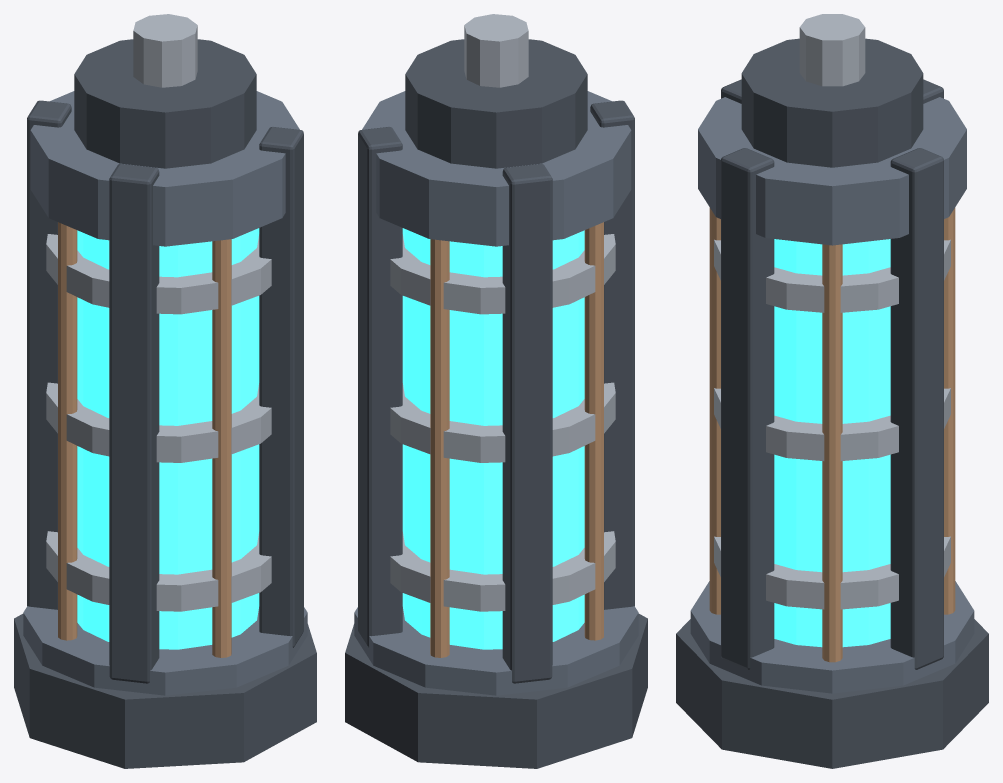
The model's file is tanque_criogenico.glb.
The picture shows the model from 3 angles, left to right: view 1: azimuth 30°, elevation 25°; view 2: azimuth 150°, elevation 25°; view 3: azimuth 270°, elevation 25°; orthographic projection.
Parts seen in each view (by area): view 1: Camara_Cian, Costilla_2, Base_Pedestal, Costilla_3, Cupula_Base, Cupula_Top, Costilla_1, Base_Anillo, TuboLat_2, TuboLat_1, Anillo_0.95, Anillo_2.75 (+2 smaller); view 2: Camara_Cian, Costilla_1, Base_Pedestal, Costilla_0, Cupula_Base, Cupula_Top, Costilla_2, Base_Anillo, TuboLat_0, TuboLat_1, Anillo_0.95, Anillo_2.75 (+2 smaller); view 3: Camara_Cian, Costilla_0, Costilla_3, Base_Pedestal, Cupula_Base, Cupula_Top, Base_Anillo, TuboLat_3, Anillo_1.85, Anillo_2.75, Anillo_0.95, Valvula_Top (+2 smaller).
Boxes of the visible parts, x1=… form: Camara_Cian: x1=77, y1=228, x2=259, y2=649; Costilla_2: x1=109, y1=164, x2=159, y2=683; Base_Pedestal: x1=14, y1=614, x2=316, y2=768; Costilla_3: x1=259, y1=127, x2=303, y2=647; Cupula_Base: x1=30, y1=91, x2=299, y2=246; Cupula_Top: x1=74, y1=39, x2=256, y2=168; Costilla_1: x1=27, y1=100, x2=71, y2=609; Base_Anillo: x1=23, y1=606, x2=307, y2=695; TuboLat_2: x1=212, y1=239, x2=231, y2=657; TuboLat_1: x1=58, y1=222, x2=77, y2=640; Anillo_0.95: x1=46, y1=531, x2=271, y2=611; Anillo_2.75: x1=46, y1=234, x2=271, y2=314; Camara_Cian: x1=402, y1=228, x2=584, y2=649; Costilla_1: x1=502, y1=164, x2=552, y2=683; Base_Pedestal: x1=345, y1=614, x2=647, y2=768; Costilla_0: x1=358, y1=127, x2=402, y2=647; Cupula_Base: x1=362, y1=91, x2=631, y2=246; Cupula_Top: x1=405, y1=39, x2=587, y2=168; Costilla_2: x1=590, y1=100, x2=634, y2=609; Base_Anillo: x1=354, y1=606, x2=638, y2=695; TuboLat_0: x1=430, y1=239, x2=449, y2=657; TuboLat_1: x1=584, y1=222, x2=603, y2=640; Anillo_0.95: x1=390, y1=531, x2=615, y2=611; Anillo_2.75: x1=390, y1=234, x2=615, y2=314; Camara_Cian: x1=774, y1=239, x2=890, y2=647; Costilla_0: x1=890, y1=148, x2=943, y2=669; Costilla_3: x1=721, y1=148, x2=774, y2=669; Base_Pedestal: x1=676, y1=619, x2=988, y2=768; Cupula_Base: x1=698, y1=97, x2=966, y2=245; Cupula_Top: x1=741, y1=38, x2=923, y2=167; Base_Anillo: x1=690, y1=581, x2=974, y2=693; TuboLat_3: x1=822, y1=244, x2=842, y2=662; Anillo_1.85: x1=714, y1=388, x2=950, y2=460; Anillo_2.75: x1=714, y1=239, x2=950, y2=312; Anillo_0.95: x1=714, y1=536, x2=950, y2=609; Valvula_Top: x1=799, y1=14, x2=865, y2=86.
Size of the model in its own units: 1.72 by 4.1 by 1.72.
